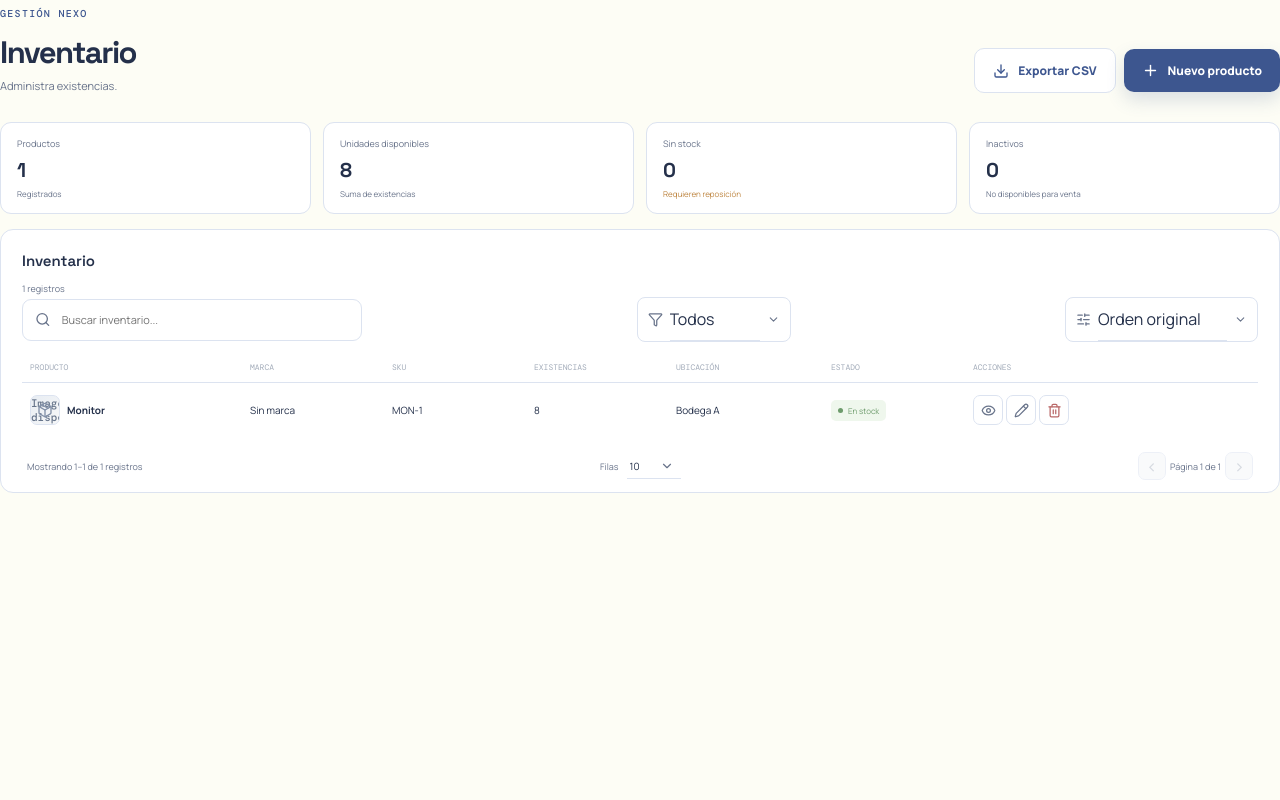
Test: configuración y formularios de inventario › muestra error y permite reintentar cuando falla el catálogo de ubicaciones
The image size is (1280, 800).
Expected: the text "Monitor" is shown, [67, 403, 105, 417]
Step 1. Click the button "Nuevo producto" → (1202,70), box [1124, 49, 1279, 92]
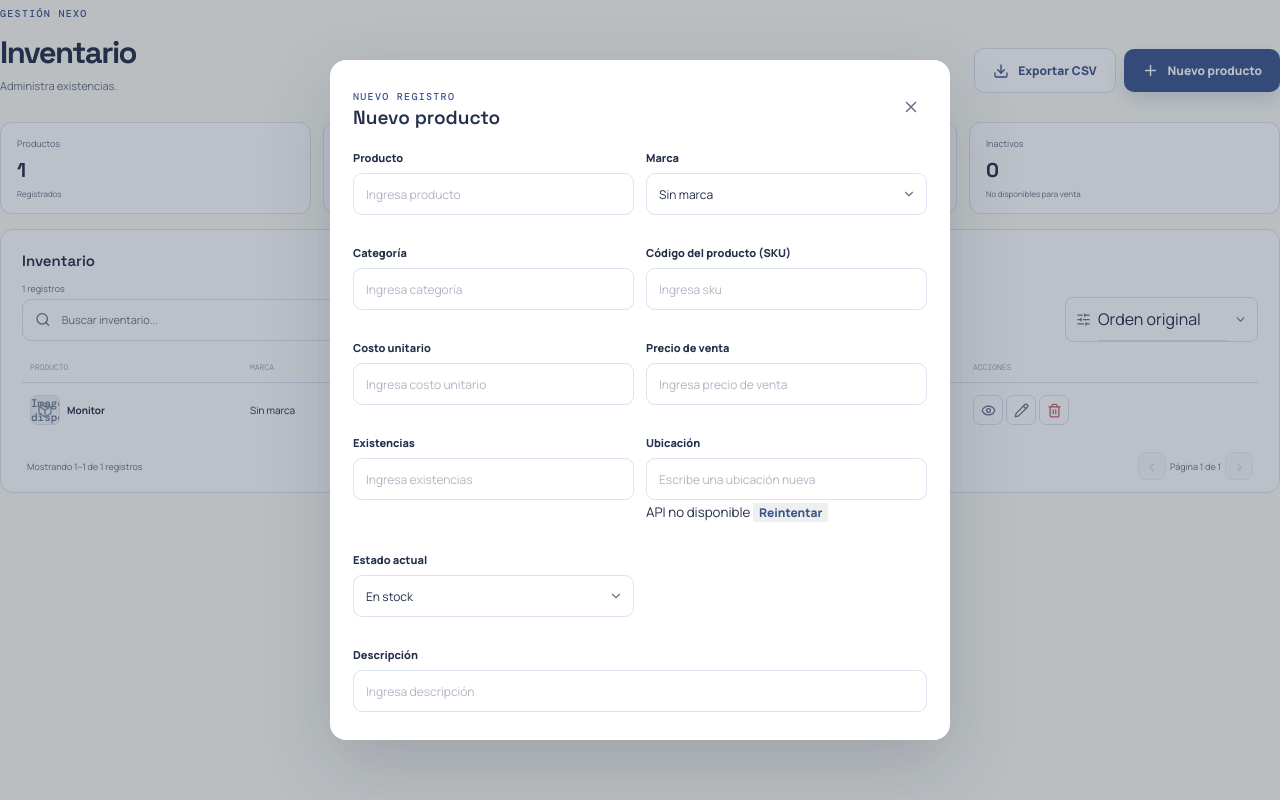
Now the text "API no disponible" is shown, box [646, 503, 750, 521]
Step 2. Click the button "Reintentar" → (791,512), box [753, 503, 828, 522]
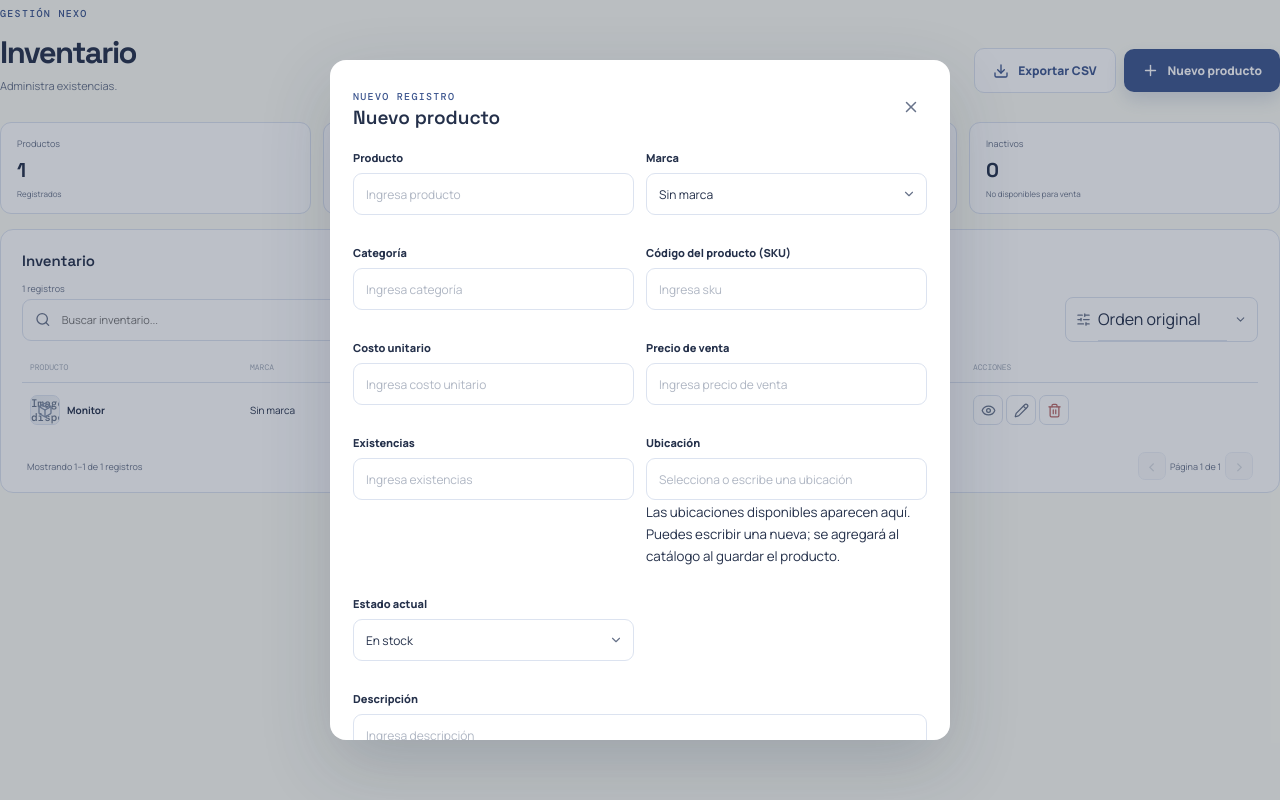
Now the text "API no disponible" is gone
